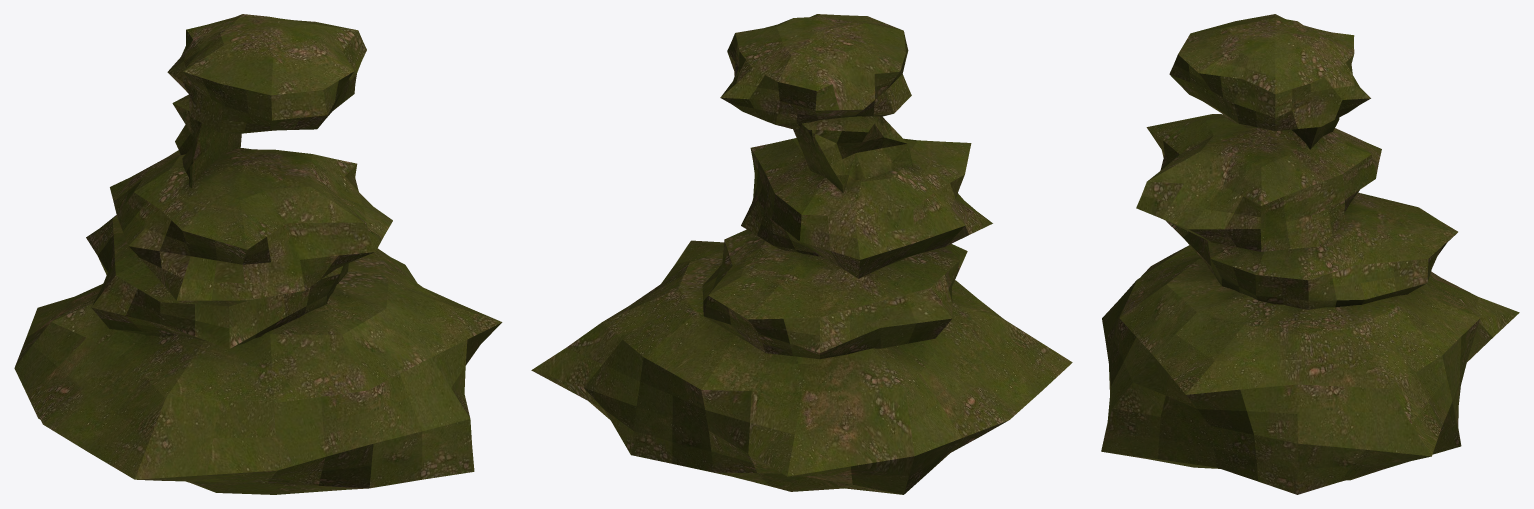
Rendered from stack_2.glb.
3 renders of one model, left to right at view 1: azimuth 30°, elevation 25°; view 2: azimuth 150°, elevation 25°; view 3: azimuth 270°, elevation 25°, orthographic. The views are drawn at different scales.
Visible parts, largest first — view 1: stack; view 2: stack; view 3: stack.
Boxes of the visible parts, bbox=[...] form: stack: bbox=[14, 14, 502, 494]; stack: bbox=[531, 14, 1072, 494]; stack: bbox=[1101, 14, 1519, 494].
Size of the model in its own units: 1.82 by 1.8 by 1.65.
Materials: 1 (1 with a texture image).
